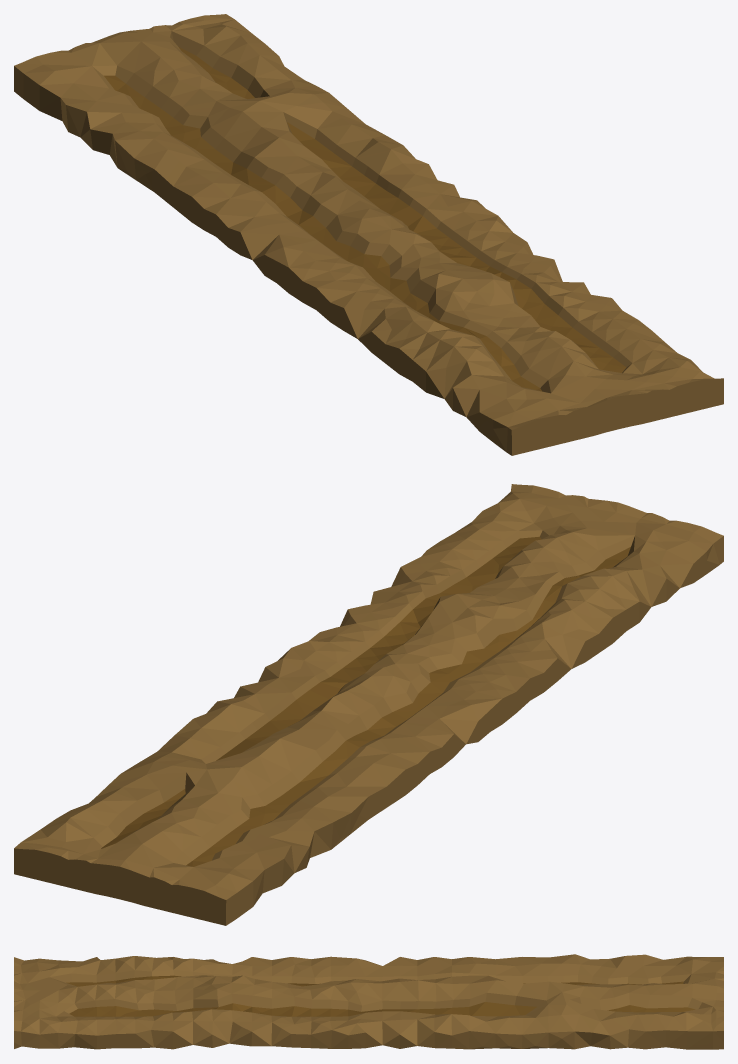
Rendered from Road.fbx.
3 renders of one model, top to bottom at view 1: azimuth 30°, elevation 25°; view 2: azimuth 150°, elevation 25°; view 3: azimuth 270°, elevation 25°, orthographic. The views are drawn at different scales.
Visible parts, largest first — view 1: Road; view 2: Road; view 3: Road.
Boxes of the visible parts, box(x1,y1,x2,y2) form: Road: box(14, 14, 723, 455); Road: box(14, 484, 723, 925); Road: box(14, 954, 723, 1049).
Bounding box in the file's own units: 204 × 40.92 × 807.
